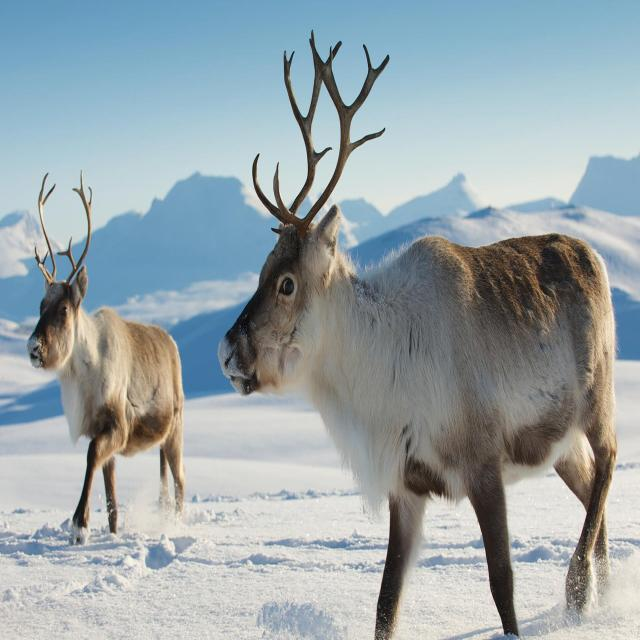Reindeer: (216, 26, 619, 634), (25, 164, 192, 542)
